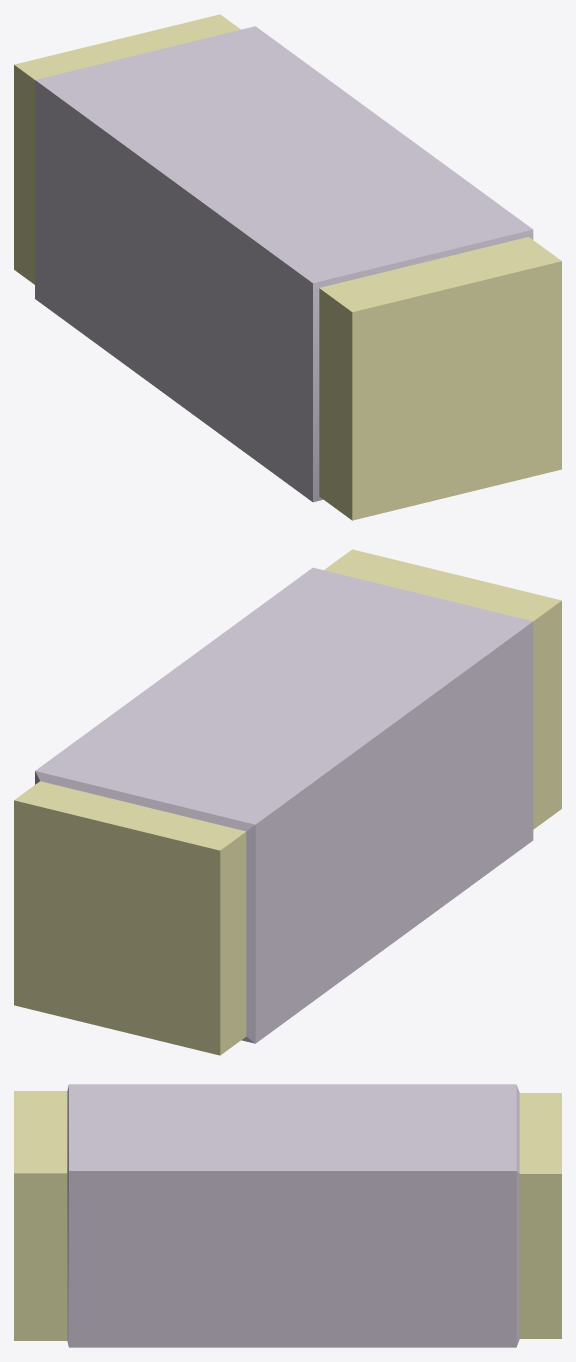
Rendered from hay_bail.fbx.
3 renders of one model, top to bottom at view 1: azimuth 30°, elevation 25°; view 2: azimuth 150°, elevation 25°; view 3: azimuth 270°, elevation 25°, orthographic. The views are drawn at different scales.
Visible parts, largest first — view 1: hay_bail; view 2: hay_bail; view 3: hay_bail.
Part boxes in pixels (x1,y1,x2,y2): hay_bail: (14,14,561,520); hay_bail: (14,549,561,1055); hay_bail: (14,1084,561,1347).
Size of the model in its own units: 77 by 73.13 by 206.
